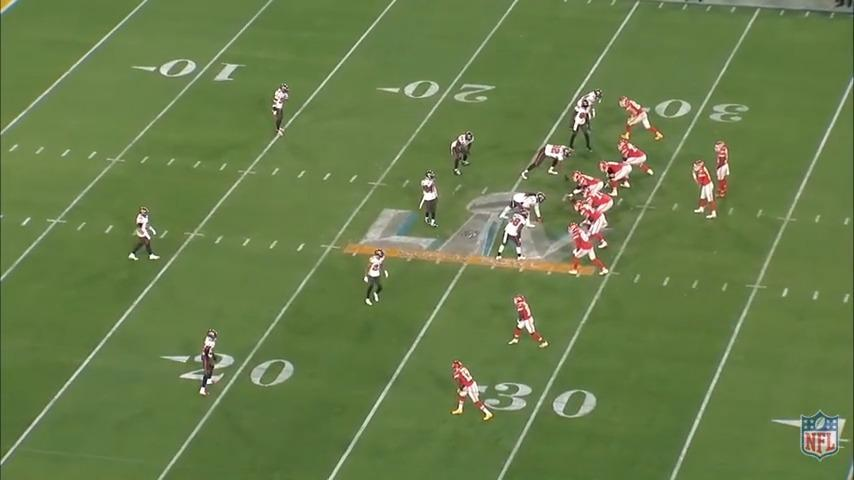player: (450, 358, 498, 424), (509, 292, 550, 351), (492, 206, 530, 263), (567, 225, 607, 278), (622, 93, 667, 140), (196, 328, 224, 398), (128, 205, 161, 264), (523, 143, 577, 178), (500, 192, 546, 231), (695, 159, 723, 222), (362, 247, 390, 309), (578, 202, 612, 251), (568, 96, 594, 153), (617, 138, 653, 178), (418, 172, 442, 230), (450, 128, 478, 176), (270, 83, 293, 141), (581, 188, 612, 231), (712, 137, 732, 202), (600, 160, 632, 196), (579, 89, 606, 128), (569, 170, 604, 198)
